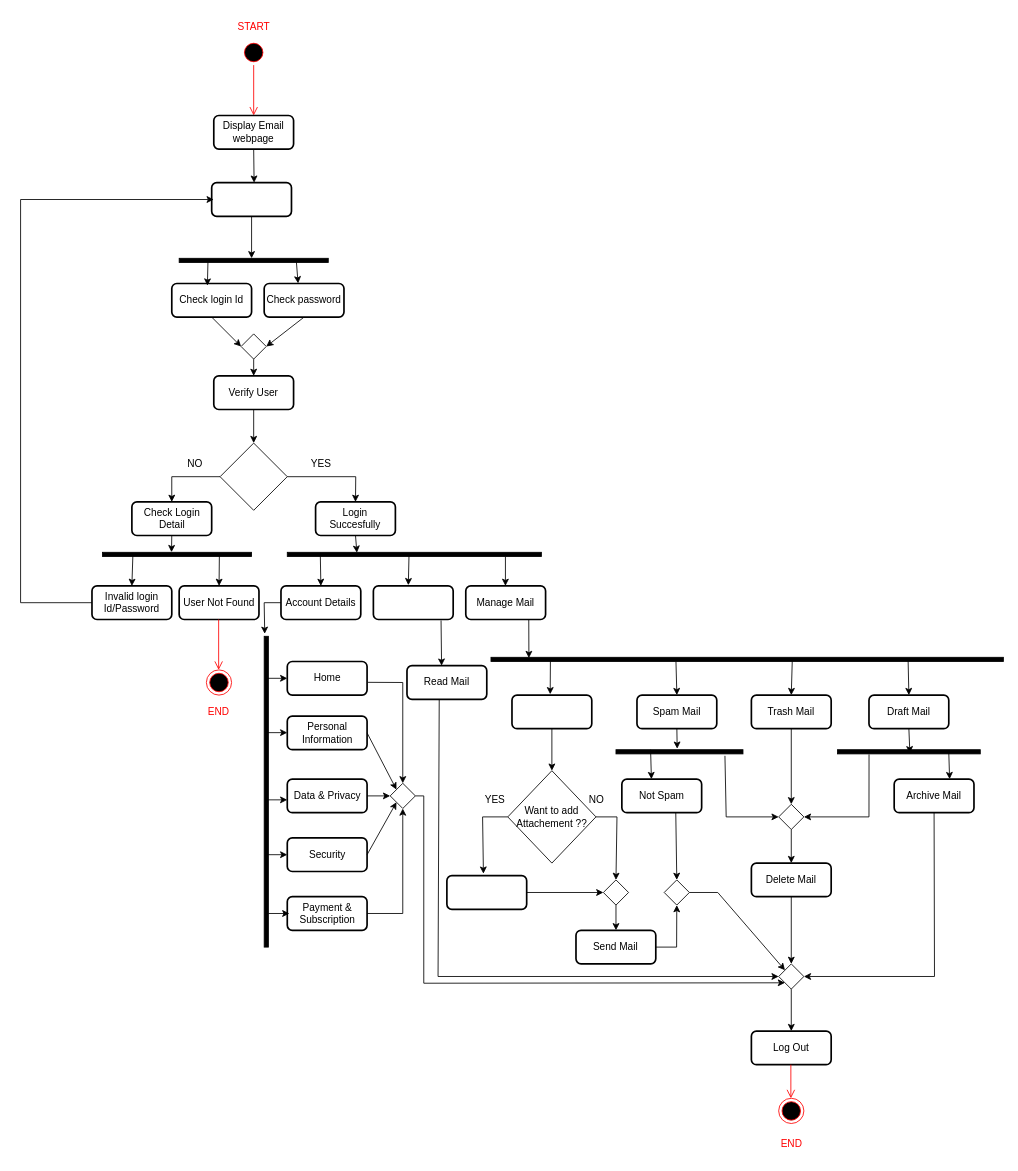
This 1018x1171 diagram has some shape labels left out. Here are the shapes that lost their labels. From the top down, the centre of each, then its label:
At point 251,199: "Admin login Id and Password".
At point 253,476: "Is User Authenticate ??".
At point 413,602: "Inbox".
At point 551,711: "Compose Mail".
At point 486,892: "Attach File".
